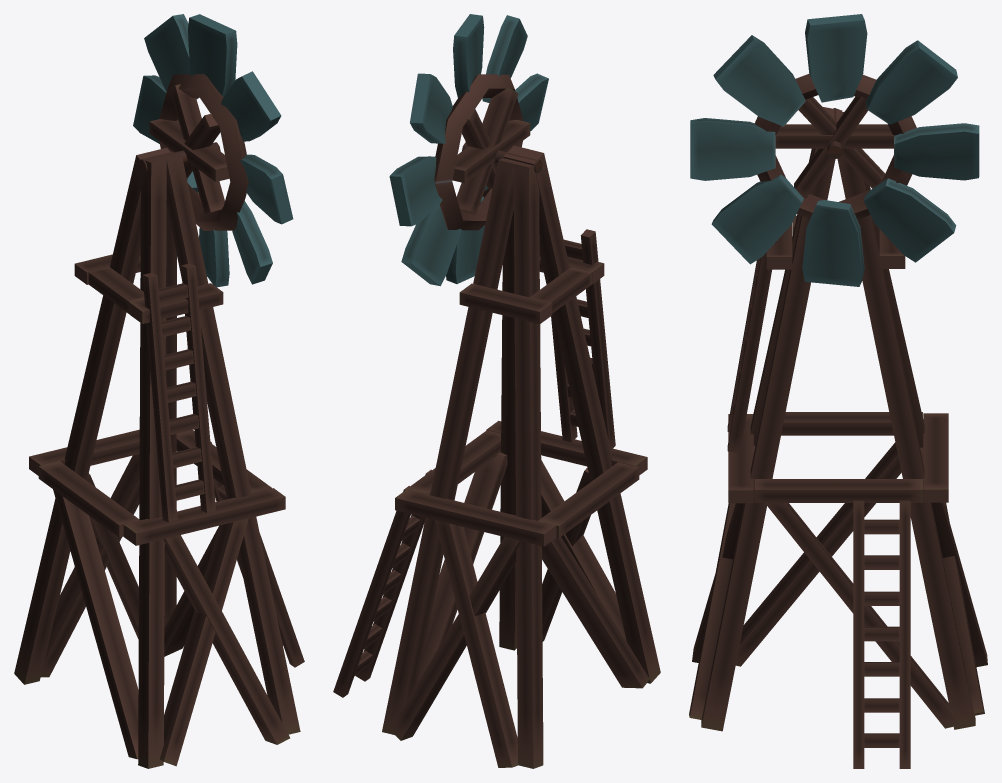
File: windmill002.fbx
The picture shows the model from 3 angles, left to right: view 1: azimuth 30°, elevation 25°; view 2: azimuth 150°, elevation 25°; view 3: azimuth 270°, elevation 25°; orthographic projection. The views are drawn at different scales.
Visible parts, largest first — view 1: windmill002; view 2: windmill002; view 3: windmill002.
Boxes of the visible parts, bbox=[...] form: windmill002: bbox=[14, 14, 304, 768]; windmill002: bbox=[333, 14, 660, 768]; windmill002: bbox=[689, 14, 987, 768].
Bounding box in the file's own units: 413 × 1138 × 439.
